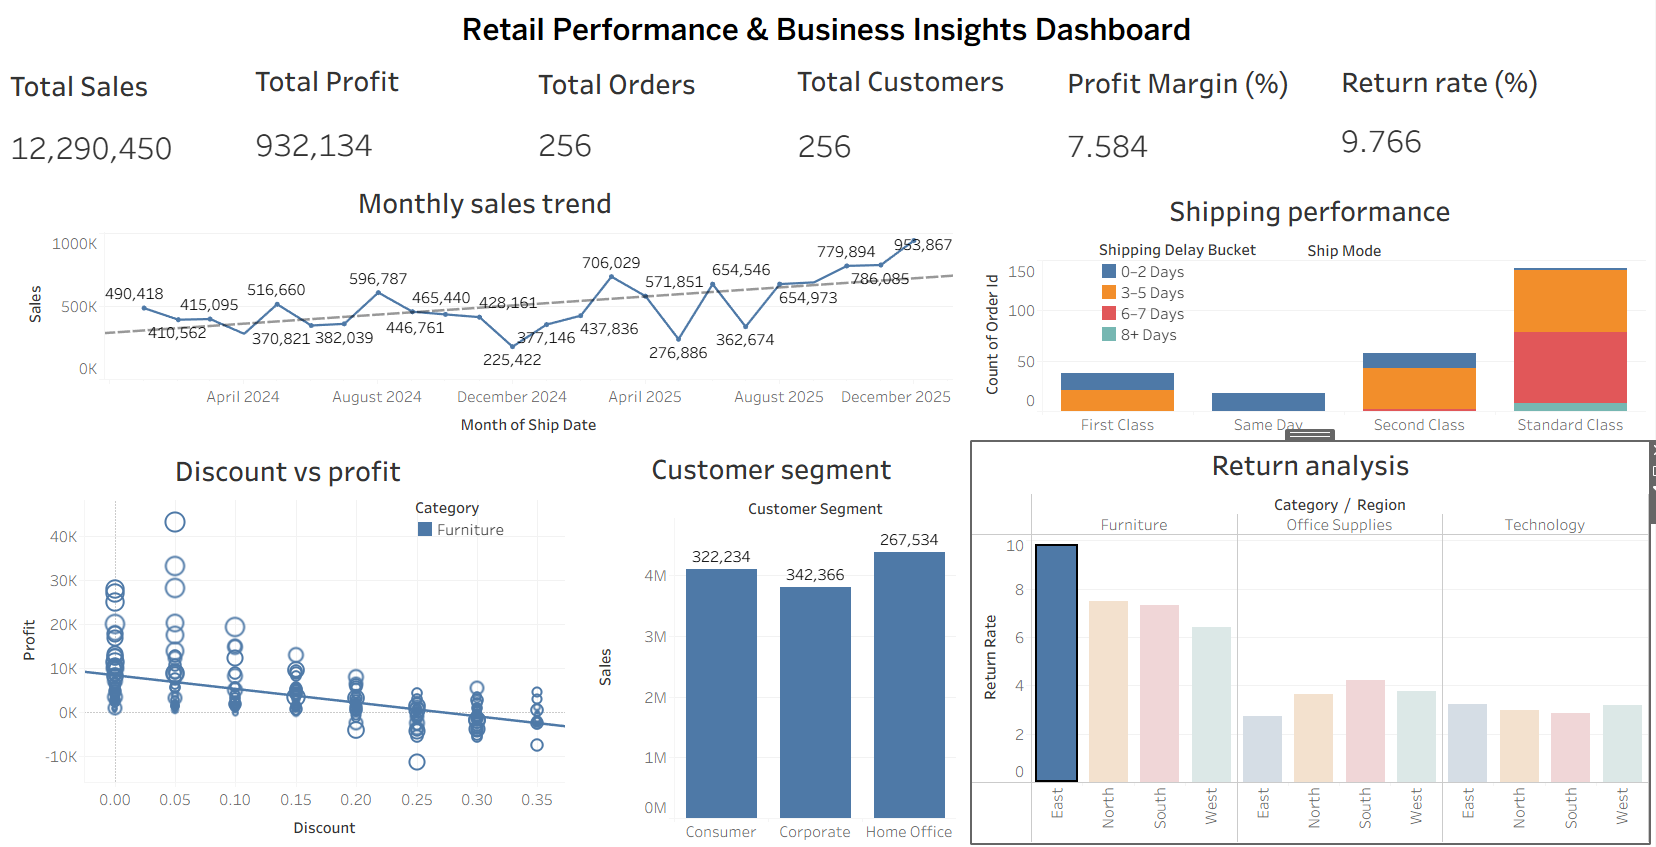

What the dashboard file says about the page in this screenshot:
{"tool":"tableau","page":{"name":"Retail Perf & BI Dashboard","canvas":[1657,851],"ordinal":0},"visuals":[{"type":"title","box":[8,8,1641,44]},{"type":"worksheet","title":"Return rate","mark":"Automatic","box":[1430,51,216,116]},{"type":"worksheet","title":"Profit Margin","mark":"Automatic","box":[1147,53,280,124]},{"type":"worksheet","title":"Total Profit","mark":"Text","box":[253,58,292,131]},{"type":"worksheet","title":"Total Customers","mark":"Automatic","box":[839,59,259,124]},{"type":"worksheet","title":"Total Orders","mark":"Automatic","box":[536,61,227,115]},{"type":"worksheet","title":"Total Sales","mark":"Text","box":[8,63,251,117]},{"type":"worksheet","title":"Shipping performance","mark":"Automatic","rows":["order_id"],"cols":["ship_mode"],"box":[976,169,672,267]},{"type":"worksheet","title":"Sales trend","mark":"Automatic","rows":["sales"],"cols":["ship_date"],"box":[19,180,936,262]},{"type":"legend","title":"Shipping performance","param":"[federated.17v3oc90h205st198mt1000kp4o4].[none:Calculation_1258133023805444:nk]","box":[1146,216,140,106]},{"type":"worksheet","title":"Return analysis","mark":"Automatic","rows":["Calculation_1258133022142467"],"cols":["category","region"],"box":[974,442,677,401]},{"type":"worksheet","title":"Customer segment","mark":"Automatic","rows":["sales"],"cols":["customer_segment"],"box":[589,446,369,397]},{"type":"worksheet","title":"Discount vs profit","mark":"Automatic","rows":["profit"],"cols":["discount"],"box":[10,448,557,397]},{"type":"legend","title":"Discount vs profit","param":"[federated.17v3oc90h205st198mt1000kp4o4].[none:category:nk]","box":[417,497,140,85]}]}

Visuals, with their boxes in screenshot pixels (x1, y1, x2, y2), scaled from the page's 1657x851 canvas onto the 1656x847 screenshot:
title: bbox=[8, 8, 1648, 52]
"Return rate" worksheet: bbox=[1429, 51, 1645, 166]
"Profit Margin" worksheet: bbox=[1146, 53, 1426, 176]
"Total Profit" worksheet (Text marks): bbox=[253, 58, 545, 188]
"Total Customers" worksheet: bbox=[838, 59, 1097, 182]
"Total Orders" worksheet: bbox=[536, 61, 763, 175]
"Total Sales" worksheet (Text marks): bbox=[8, 63, 259, 179]
"Shipping performance" worksheet: bbox=[975, 168, 1647, 434]
"Sales trend" worksheet: bbox=[19, 179, 954, 440]
"Shipping performance" legend: bbox=[1145, 215, 1285, 320]
"Return analysis" worksheet: bbox=[973, 440, 1650, 839]
"Customer segment" worksheet: bbox=[589, 444, 957, 839]
"Discount vs profit" worksheet: bbox=[10, 446, 567, 841]
"Discount vs profit" legend: bbox=[417, 495, 557, 579]
